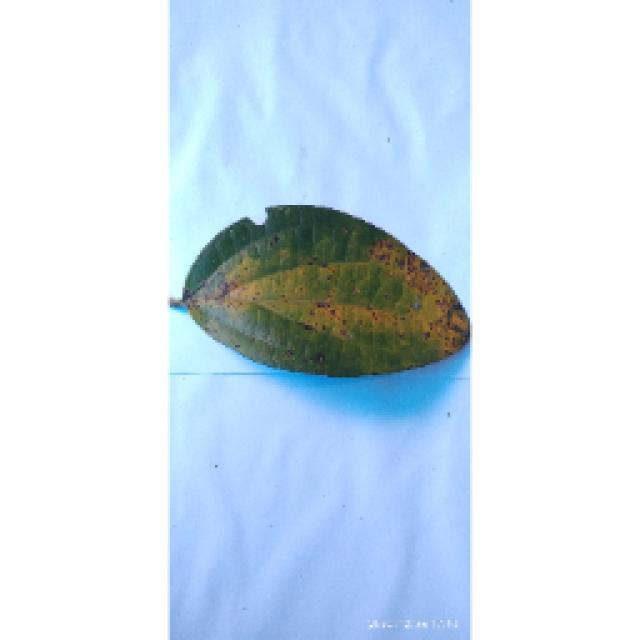slow-decline: (170, 200, 468, 375)
